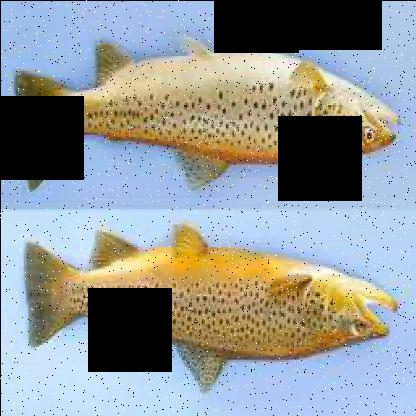fish: (22, 223, 400, 393), (16, 34, 404, 188)
